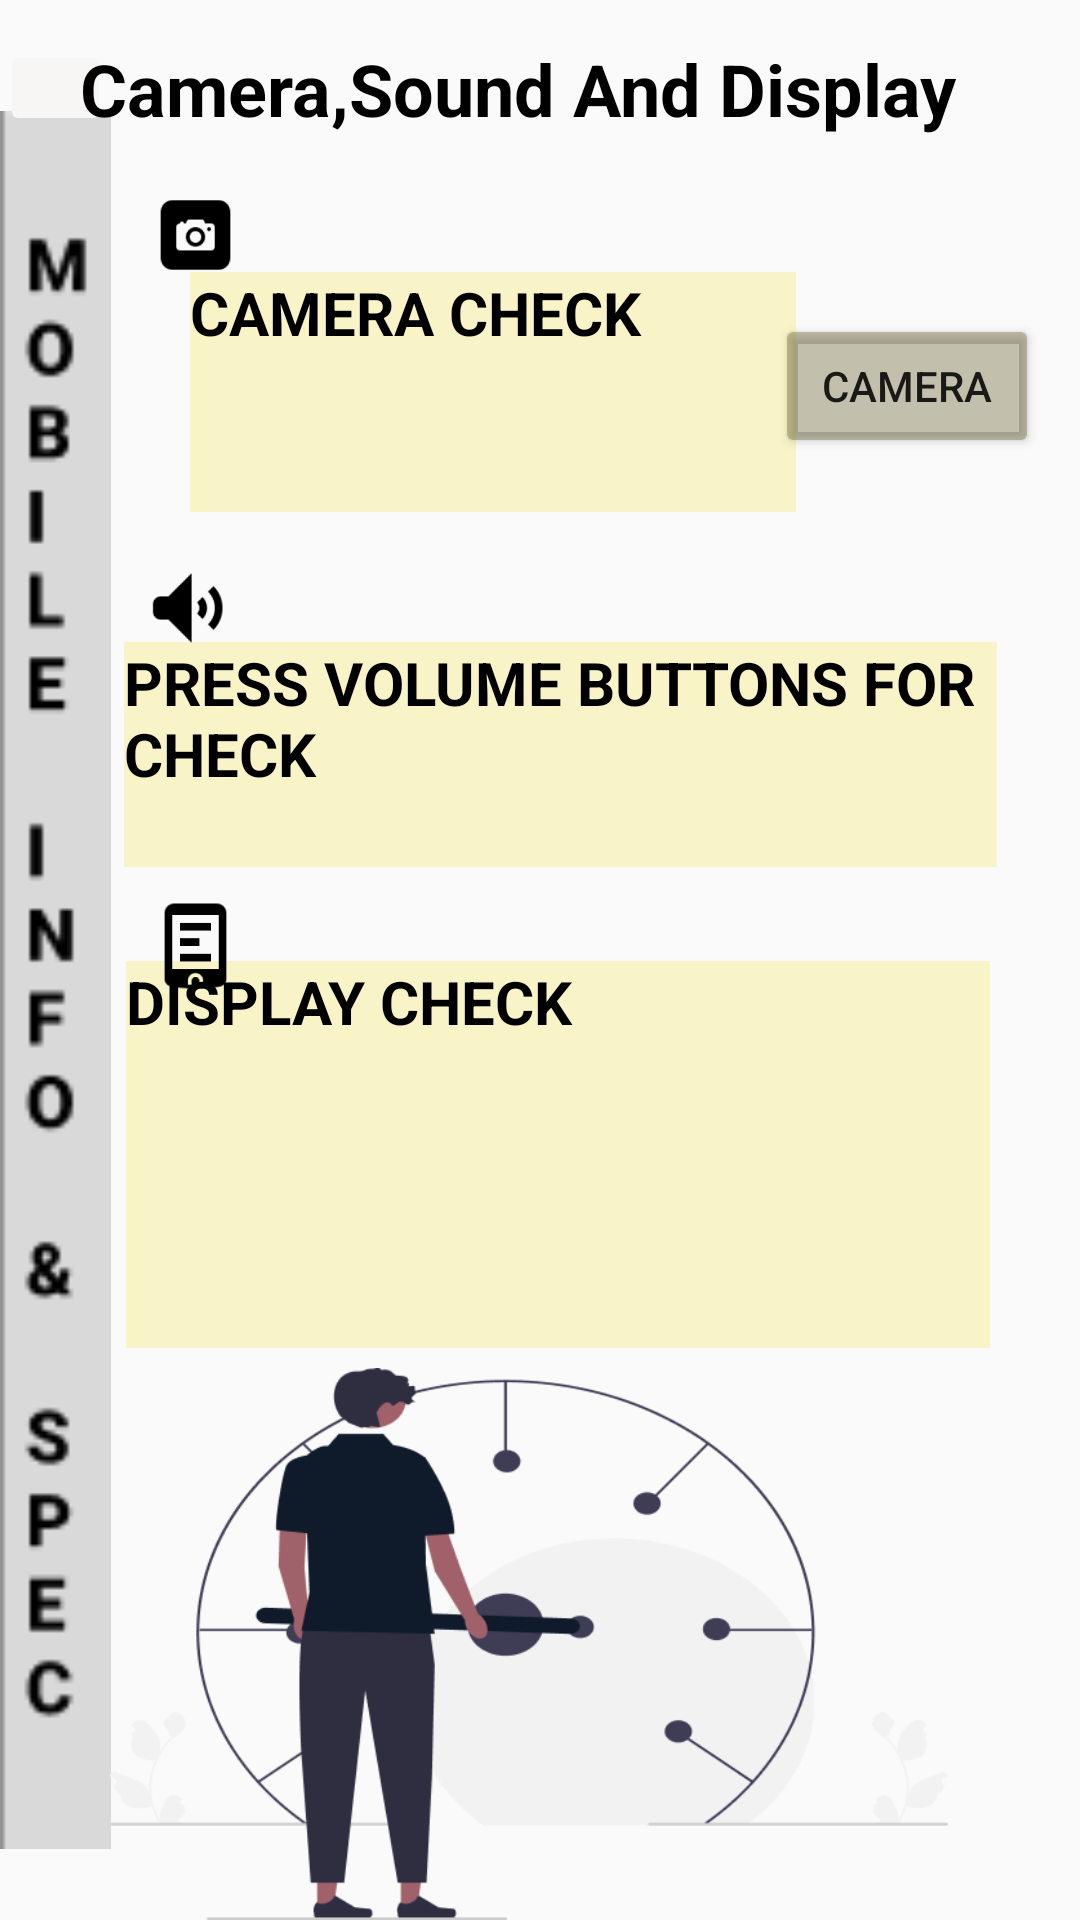

Locate icon controls on the screen. Image size 1080*1920, boxes as (x1, y1, x2, y2).
sound: (140, 573, 251, 662)
